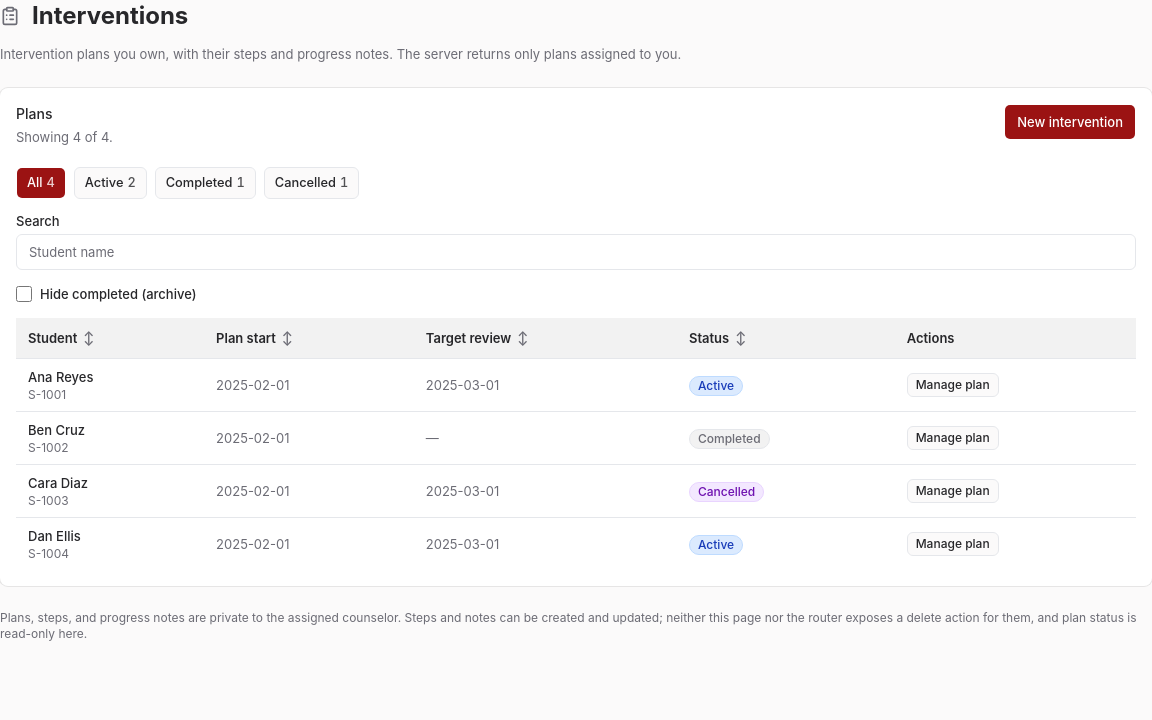
Scenario: InterventionsPage › blocks a review date that precedes the plan start date
Expected: the text "Ana Reyes" is shown, [28,369,93,385]
Click the button "New intervention".
click(1070, 122)  # box [1004,104,1136,140]
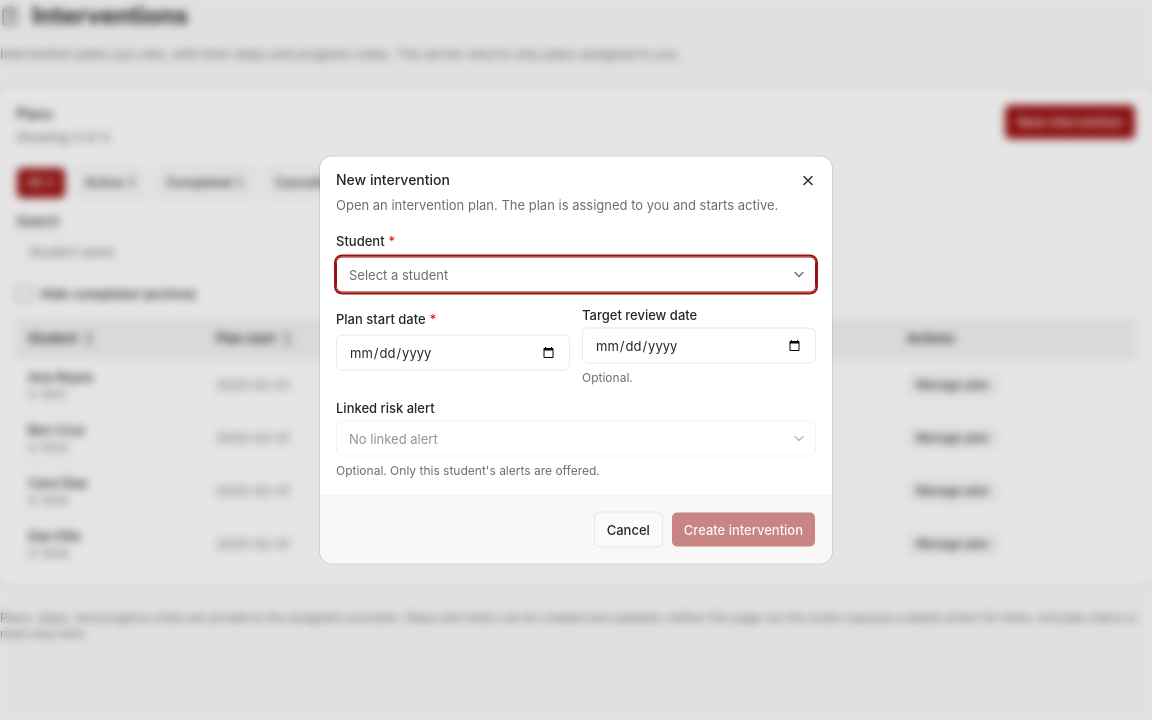
Result: the dropdown labelled "Select a student" is enabled
Press ArrowDown in the dropdown labelled "Select a student", box [336,256,816,292]
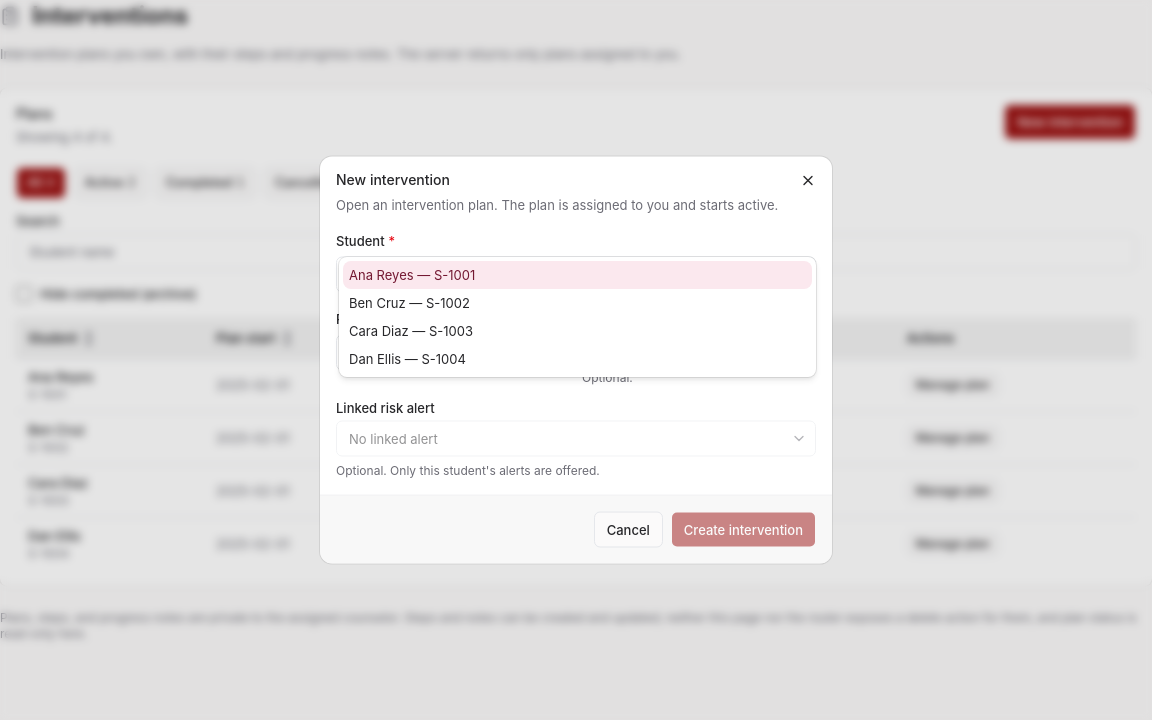
Click the option "Ana Reyes — S-1001".
click(381, 274)  # box [343,260,812,288]
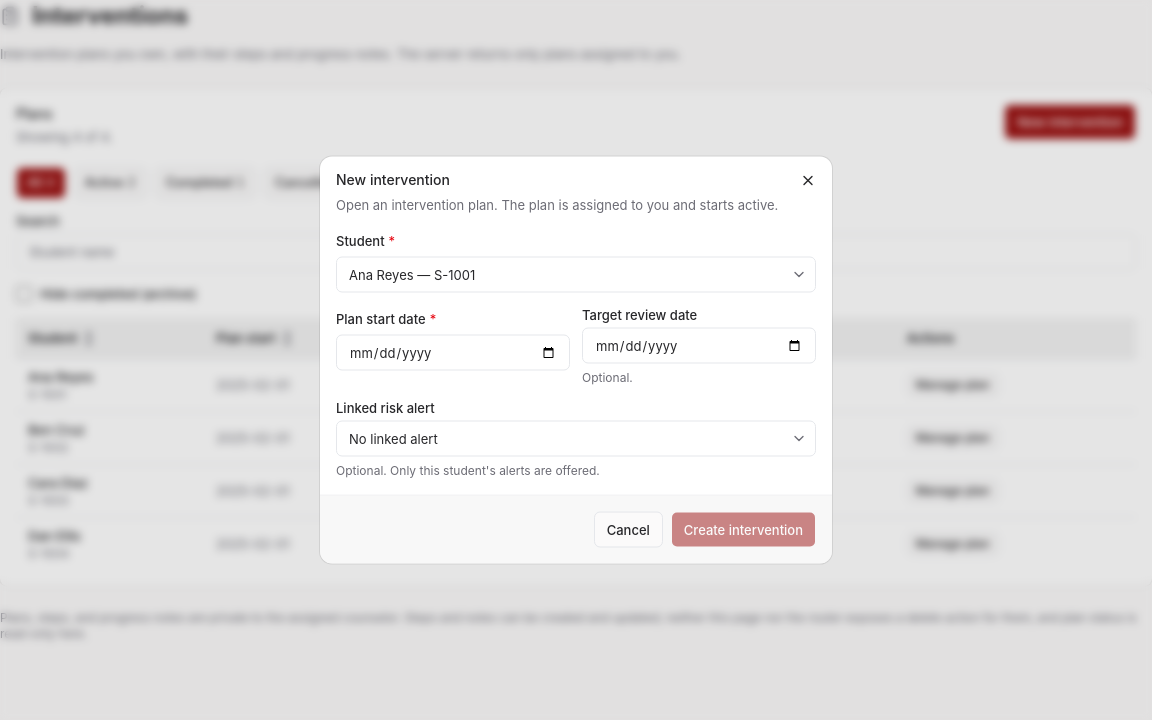
Type "2025-03-01" into the date field labelled "Plan start date".
click(453, 352); type("2025-03-01")  # box [336,334,570,370]
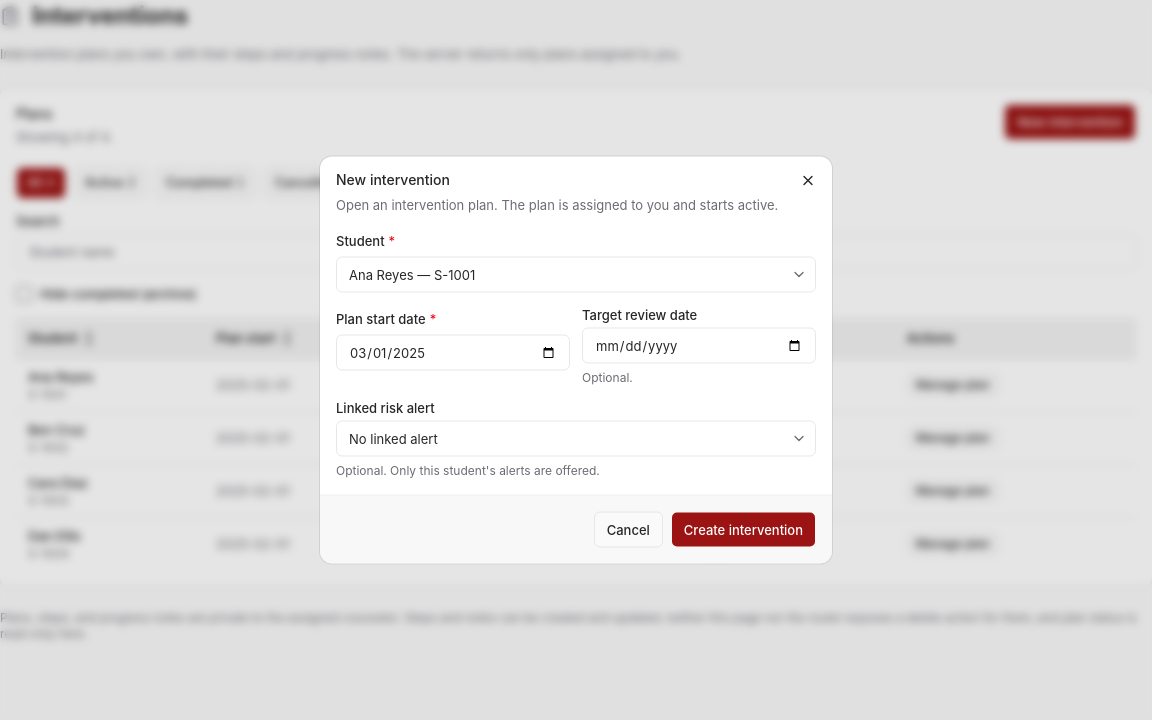
Type "2025-02-01" into the date field labelled "Target review date".
click(699, 346); type("2025-02-01")  # box [582,328,816,364]
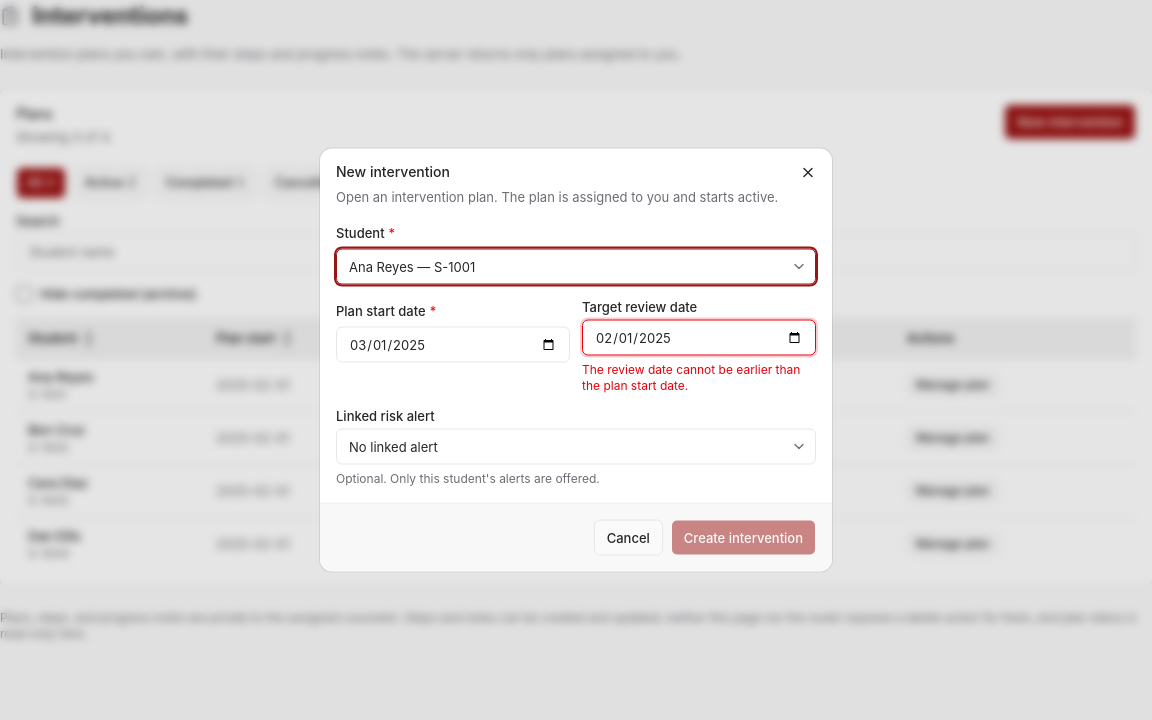
Result: the text "The review date cannot be earlier than the plan start date." is shown at [582,362,816,394]
Result: the button "Create intervention" is disabled at [671,520,816,556]
